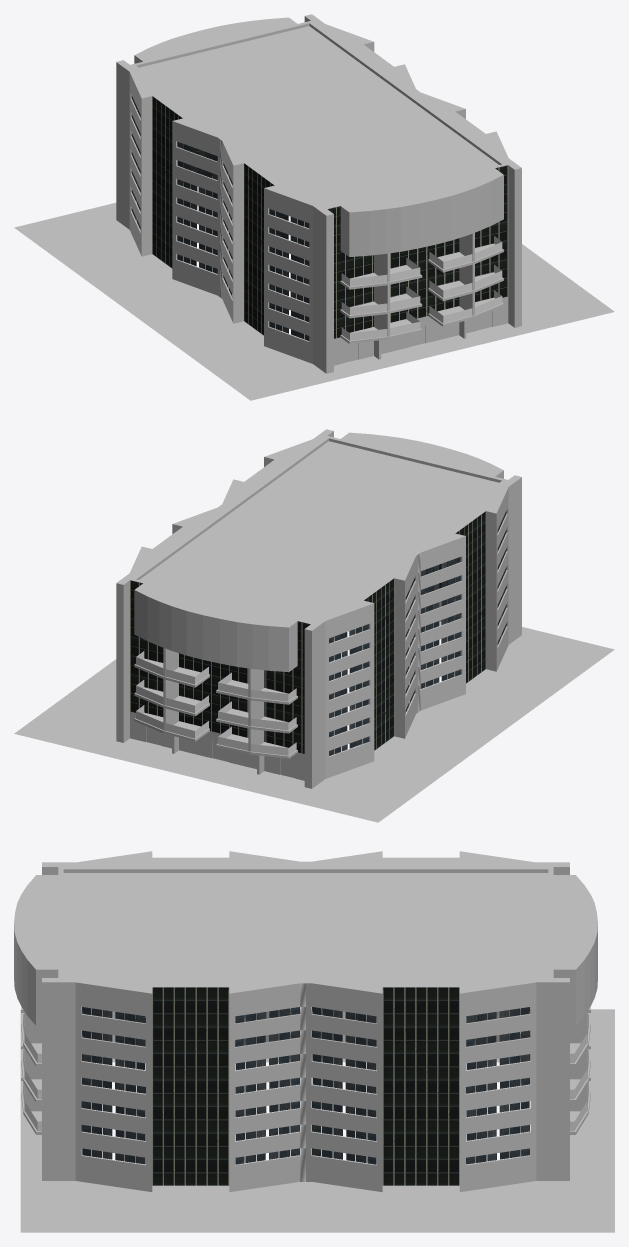
The picture shows the model from 3 angles, top to bottom: view 1: azimuth 30°, elevation 25°; view 2: azimuth 150°, elevation 25°; view 3: azimuth 270°, elevation 25°; orthographic projection. The views are drawn at different scales.
Parts seen in each view (by area): view 1: M-015; view 2: M-015; view 3: M-015.
Part boxes in pixels (x1,y1,x2,y2): M-015: (14, 14, 614, 400); M-015: (14, 429, 614, 822); M-015: (14, 851, 614, 1232).
Size of what is drawn, in the model's own units: 64 by 26.55 by 72.79.
